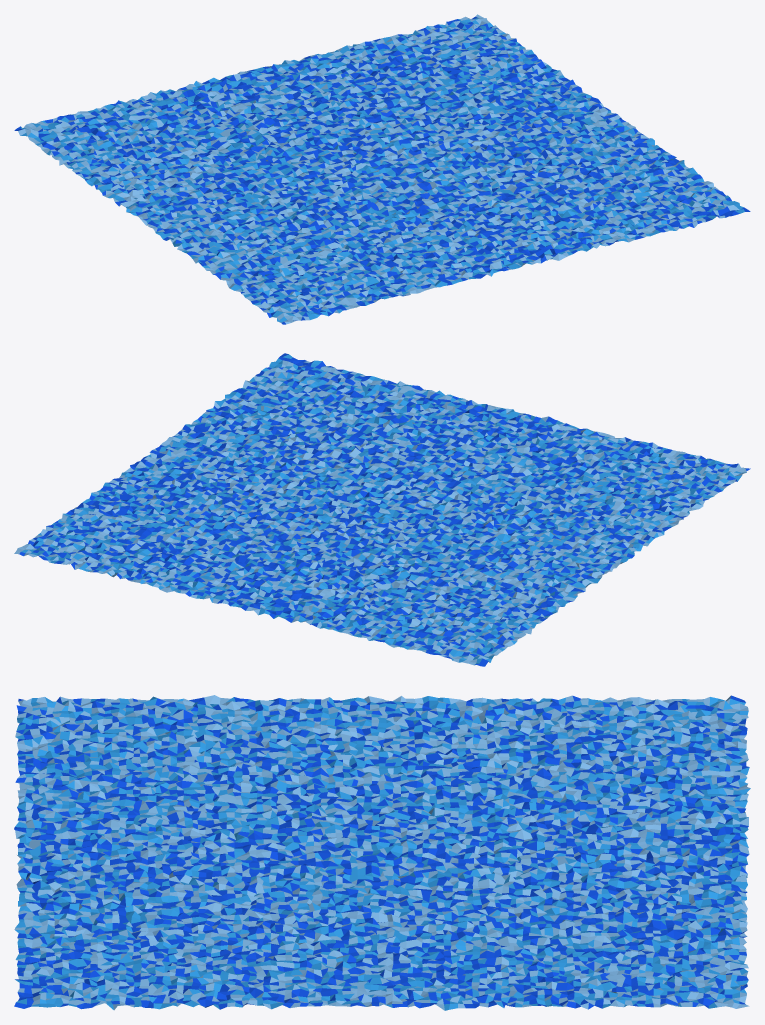
The model's file is Poly-Sea-Waves1.fbx.
3 views of the same model, one above another, from view 1: azimuth 30°, elevation 25°; view 2: azimuth 150°, elevation 25°; view 3: azimuth 270°, elevation 25° (orthographic). The views are drawn at different scales.
Visible parts, largest first — view 1: Plane; view 2: Plane; view 3: Plane.
Boxes of the visible parts, bbox=[...] form: Plane: bbox=[14, 14, 750, 324]; Plane: bbox=[14, 353, 750, 666]; Plane: bbox=[14, 695, 750, 1010].
Bounding box in the file's own units: 20217 × 255 × 20227.
